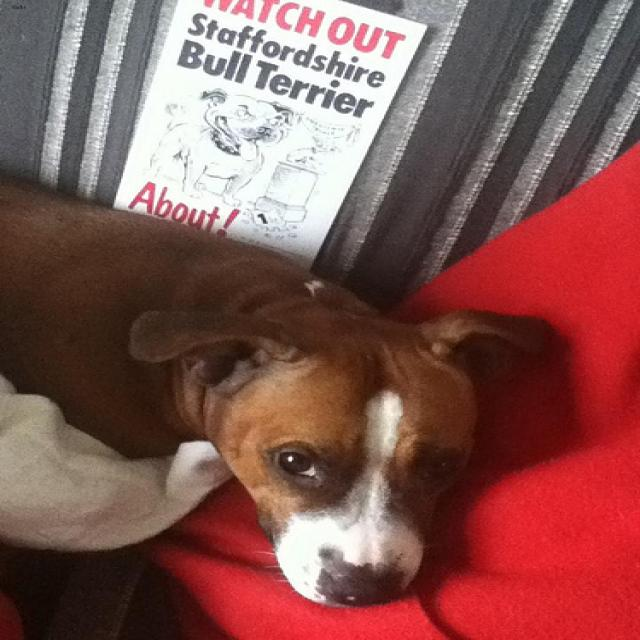dog-staffordshire_bull_terrier: (2, 161, 565, 618)
